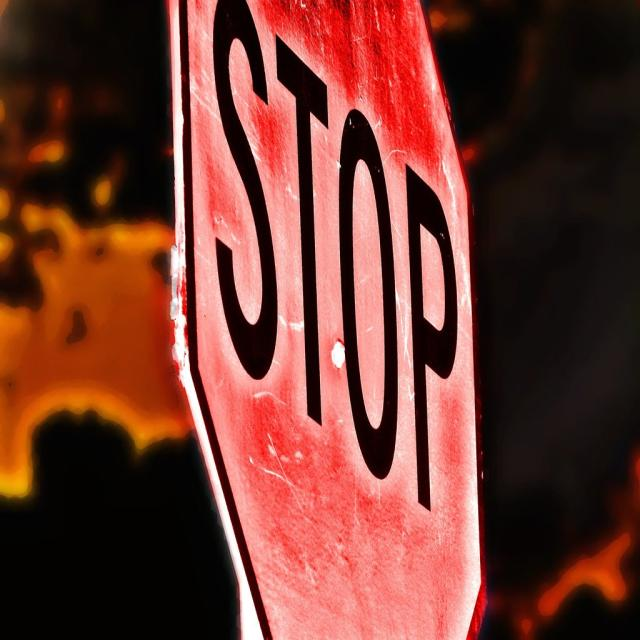Stop-sign: (168, 0, 478, 639)
